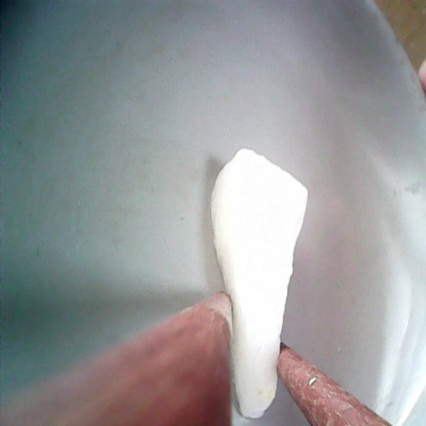white_chinese-yam: (209, 141, 312, 422)
